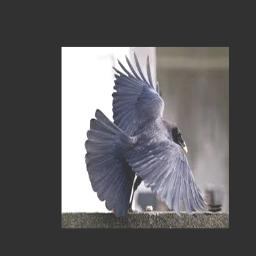Crow: (85, 55, 216, 219)
